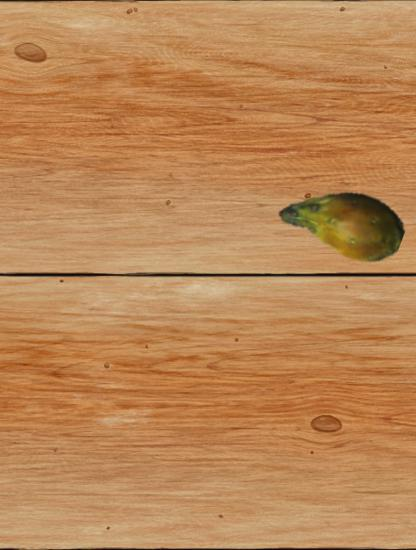Cactus: (280, 158, 405, 283)
